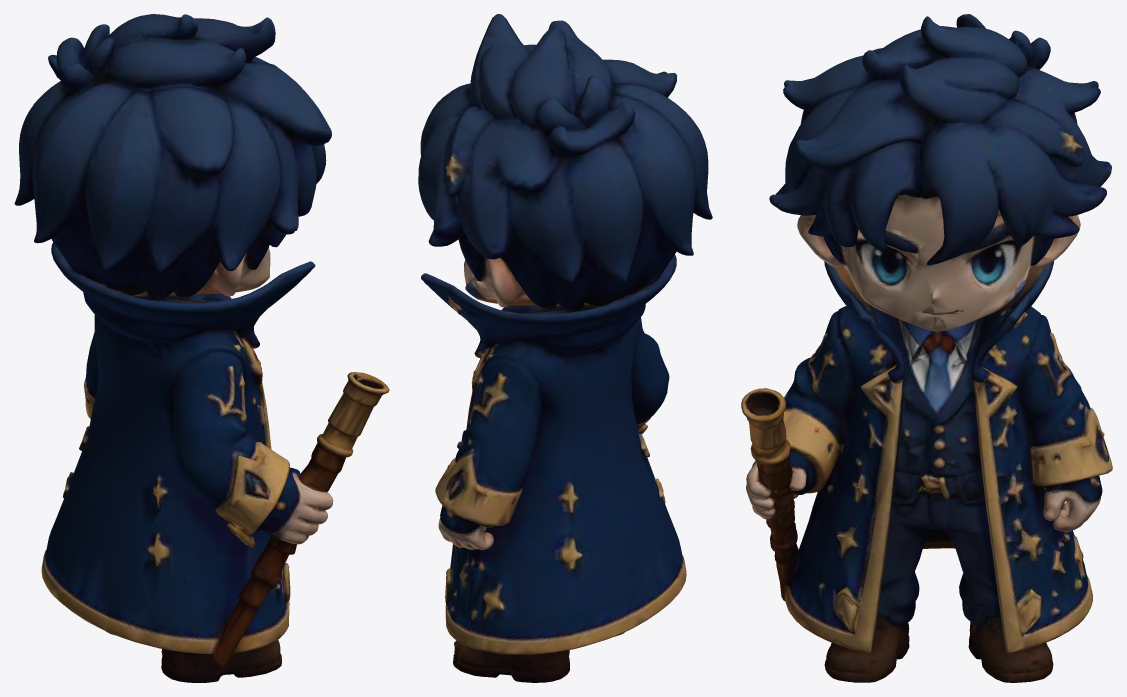
File: mage.glb
3 renders of one model, left to right at view 1: azimuth 30°, elevation 25°; view 2: azimuth 150°, elevation 25°; view 3: azimuth 270°, elevation 25°, orthographic. The views are drawn at different scales.
Visible parts, largest first — view 1: tripo_node_ad955938-1883-4314-bed0-b6dff5ee0f2f; view 2: tripo_node_ad955938-1883-4314-bed0-b6dff5ee0f2f; view 3: tripo_node_ad955938-1883-4314-bed0-b6dff5ee0f2f.
Part boxes in pixels (x1,y1,x2,y2): tripo_node_ad955938-1883-4314-bed0-b6dff5ee0f2f: [14, 14, 389, 682]; tripo_node_ad955938-1883-4314-bed0-b6dff5ee0f2f: [418, 14, 712, 682]; tripo_node_ad955938-1883-4314-bed0-b6dff5ee0f2f: [741, 14, 1112, 682].
Size of the model in its own units: 0.4434 by 0.9998 by 0.5261.
1 material, 1 textured.
